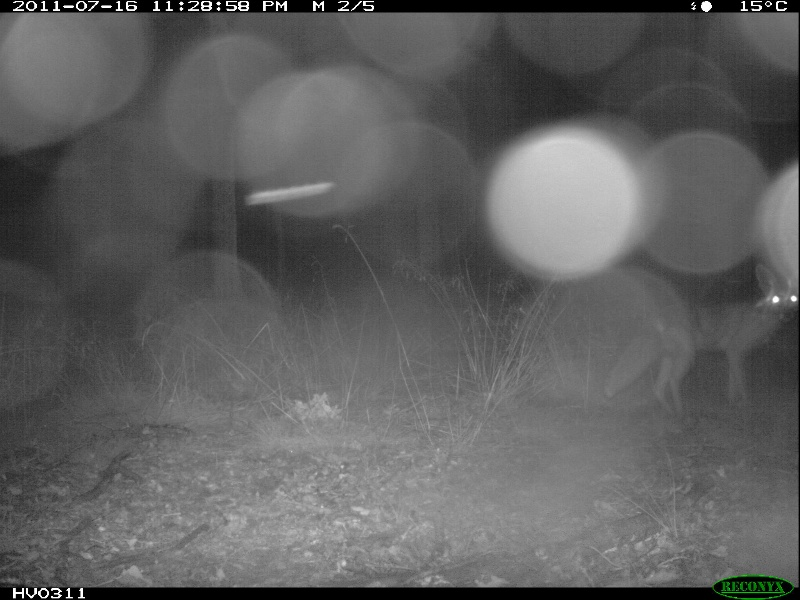fox: (610, 269, 800, 412)
